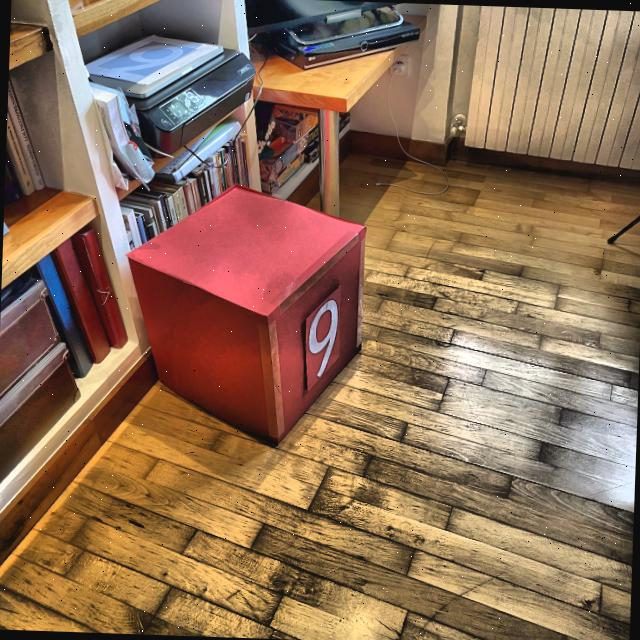nine: (304, 296, 342, 377)
red box: (119, 178, 362, 448)
